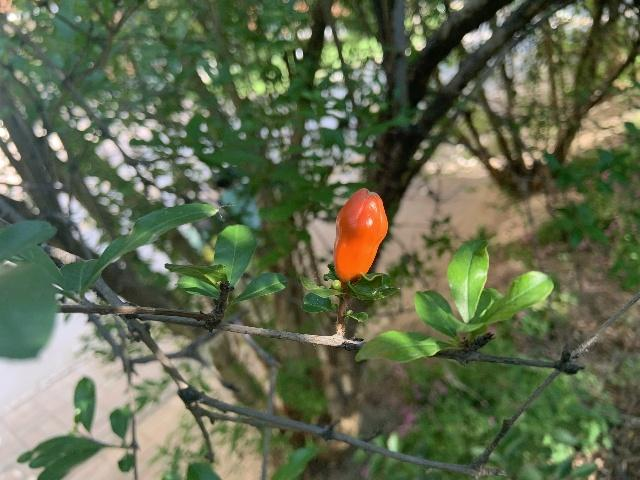bud: (333, 188, 387, 289)
